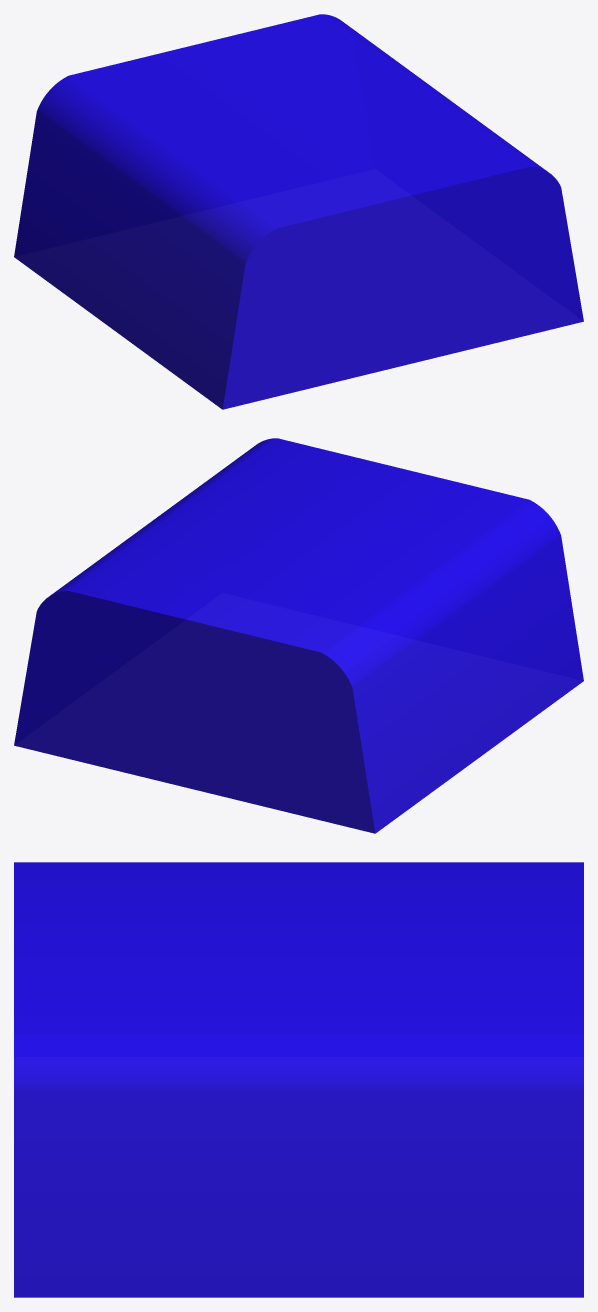
File: original-99.obj
3 views of the same model, one above another, from view 1: azimuth 30°, elevation 25°; view 2: azimuth 150°, elevation 25°; view 3: azimuth 270°, elevation 25° (orthographic). The views are drawn at different scales.
Visible parts, largest first — view 1: Group_1_71/Group_1/mesh1/mesh1-geometry#mesh1-geometry; view 2: Group_1_71/Group_1/mesh1/mesh1-geometry#mesh1-geometry; view 3: Group_1_71/Group_1/mesh1/mesh1-geometry#mesh1-geometry.
Part boxes in pixels (bbox=[...]): Group_1_71/Group_1/mesh1/mesh1-geometry#mesh1-geometry: bbox=[14, 14, 583, 409]; Group_1_71/Group_1/mesh1/mesh1-geometry#mesh1-geometry: bbox=[14, 438, 583, 833]; Group_1_71/Group_1/mesh1/mesh1-geometry#mesh1-geometry: bbox=[14, 862, 583, 1297].
Size of the model in its own units: 0.0524 by 0.0233 by 0.0524.
